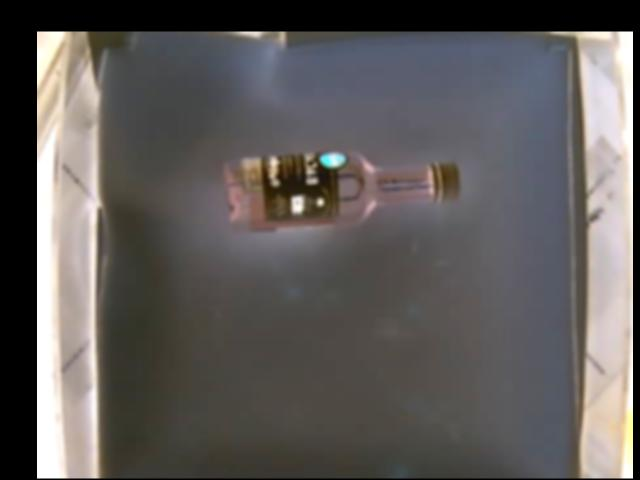Bottle: (224, 150, 461, 234)
